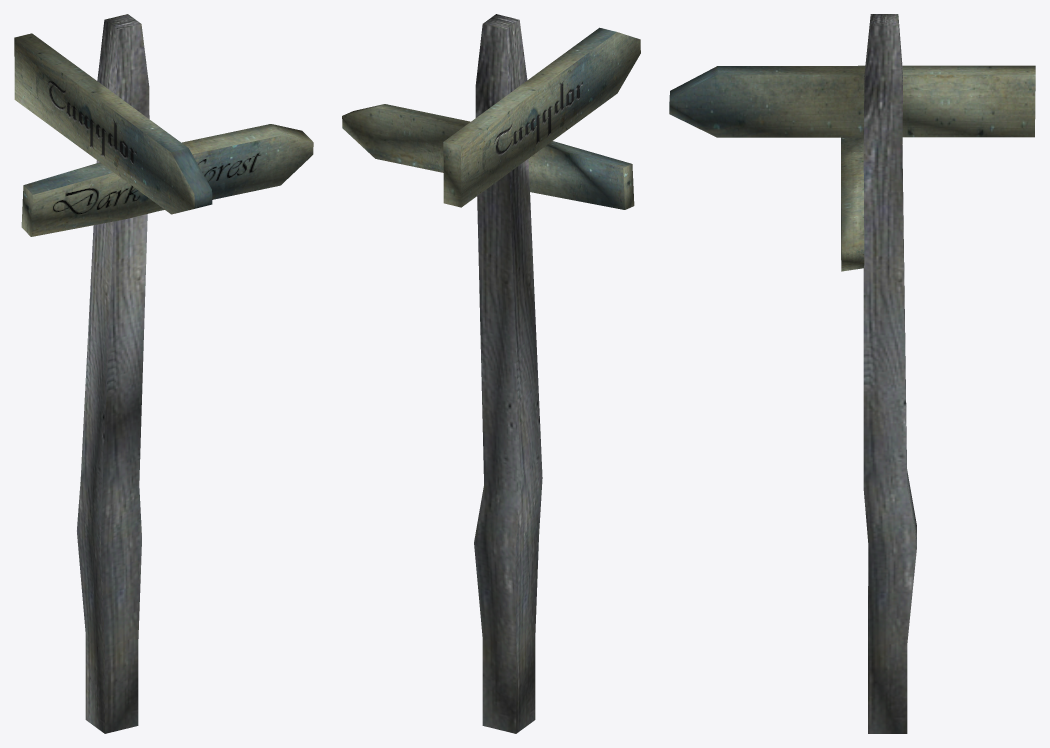
The model's file is signpost2.obj.
3 renders of one model, left to right at view 1: azimuth 30°, elevation 25°; view 2: azimuth 150°, elevation 25°; view 3: azimuth 270°, elevation 25°, orthographic.
Size of the model in its own units: 61.88 by 147 by 68.51.
1 material, 1 textured.
